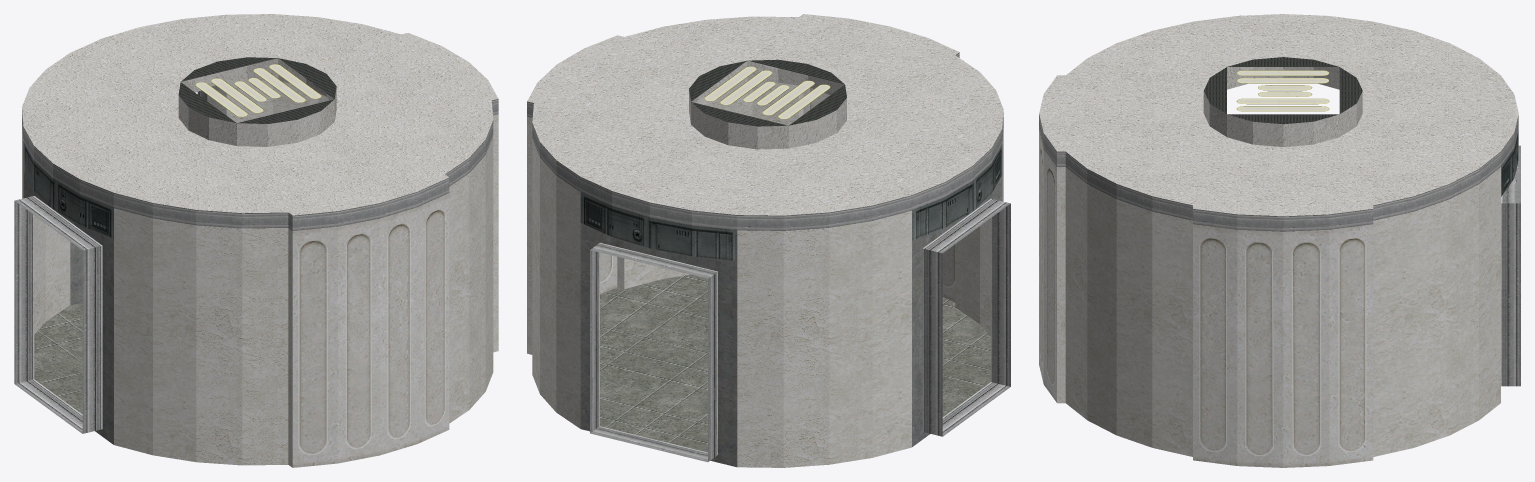
Rendered from ply_corl_house_lg_s01_fp1_r2_room2_mesh_r2.fbx.
3 renders of one model, left to right at view 1: azimuth 30°, elevation 25°; view 2: azimuth 150°, elevation 25°; view 3: azimuth 270°, elevation 25°, orthographic.
Parts seen in each view (by area): view 1: mesh_node; view 2: mesh_node; view 3: mesh_node.
Part boxes in pixels (x1,y1,x2,y2): mesh_node: [14, 14, 498, 467]; mesh_node: [527, 14, 1010, 467]; mesh_node: [1039, 14, 1520, 467].
Bounding box in the file's own units: 7.19 × 4.5 × 7.16.
